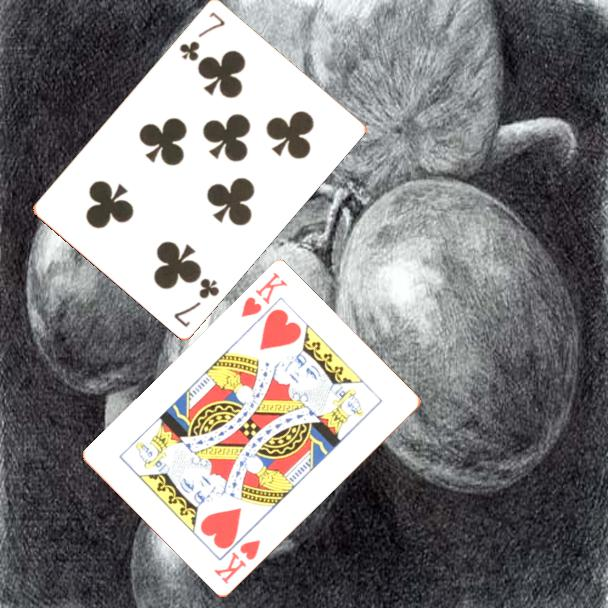c07: (170, 274, 223, 330), (176, 8, 228, 64)
h13: (211, 536, 264, 588), (237, 269, 290, 321)
